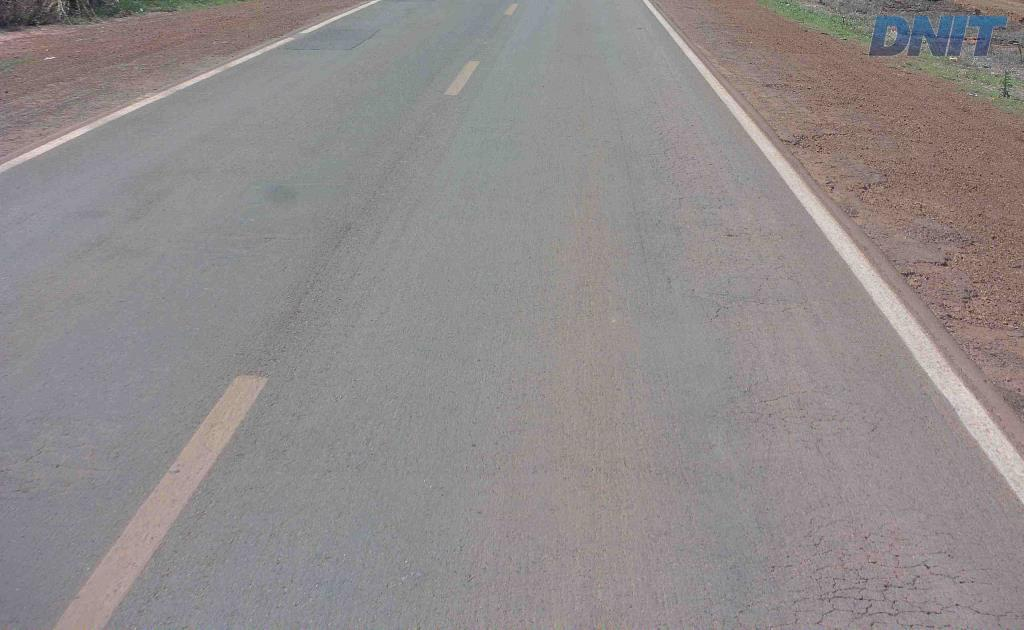crack: (816, 563, 874, 602), (852, 574, 920, 602)
